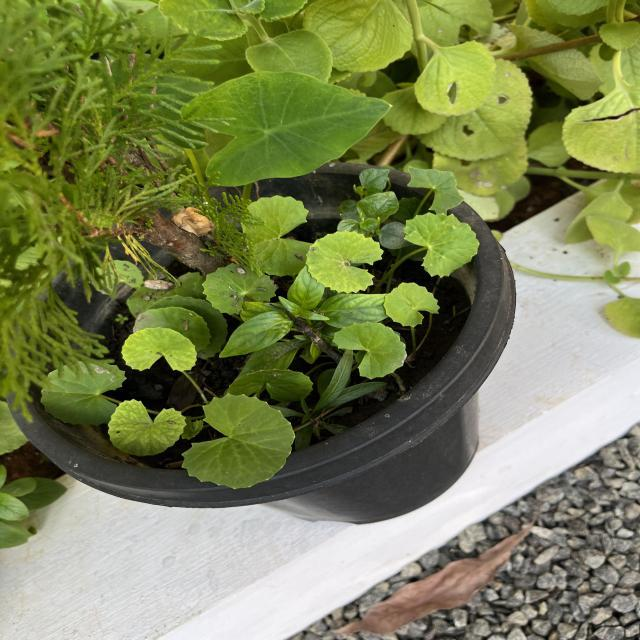Centella asiatica: (178, 390, 298, 492), (400, 211, 482, 281), (303, 229, 386, 296), (105, 396, 189, 458), (330, 318, 410, 382), (120, 325, 200, 373), (382, 280, 443, 330)
